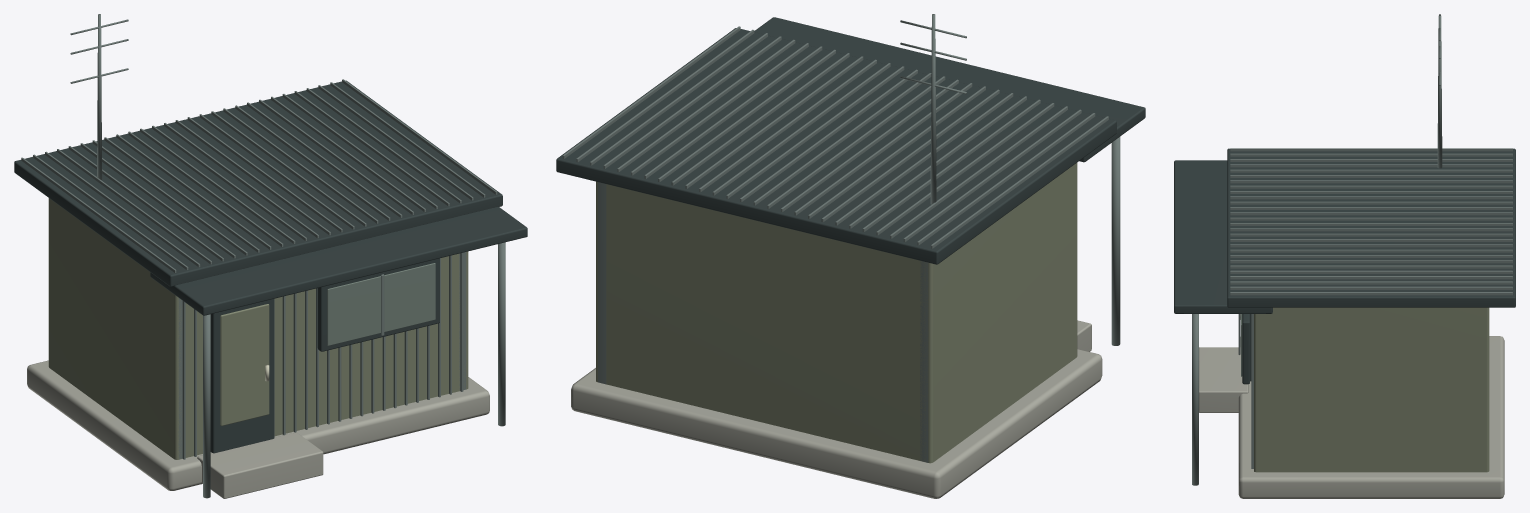
The model's file is service_cabin.glb.
3 renders of one model, left to right at view 1: azimuth 30°, elevation 25°; view 2: azimuth 150°, elevation 25°; view 3: azimuth 270°, elevation 25°, orthographic. The views are drawn at different scales.
Parts seen in each view (by area): view 1: FieldStation; view 2: FieldStation; view 3: FieldStation.
Part boxes in pixels (x1,y1,x2,y2): FieldStation: (14,14,527,498); FieldStation: (556,14,1145,498); FieldStation: (1174,14,1515,498).
Bounding box in the file's own units: 4.65 × 5.2 × 4.5.
